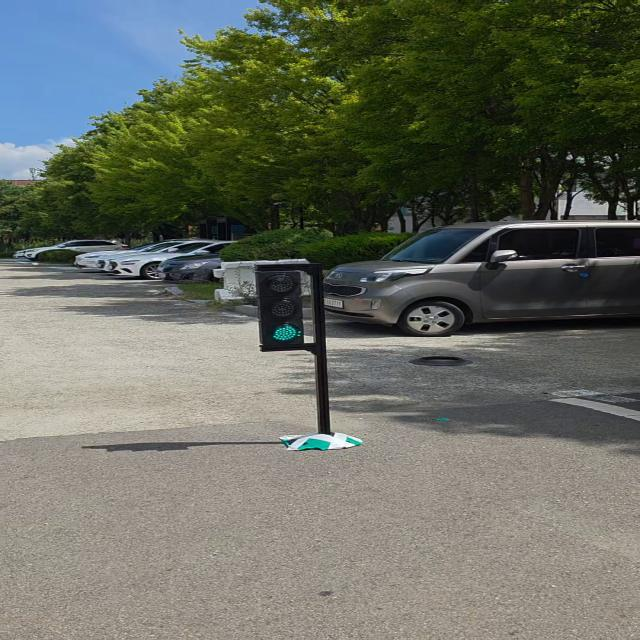green: (259, 267, 308, 350)
